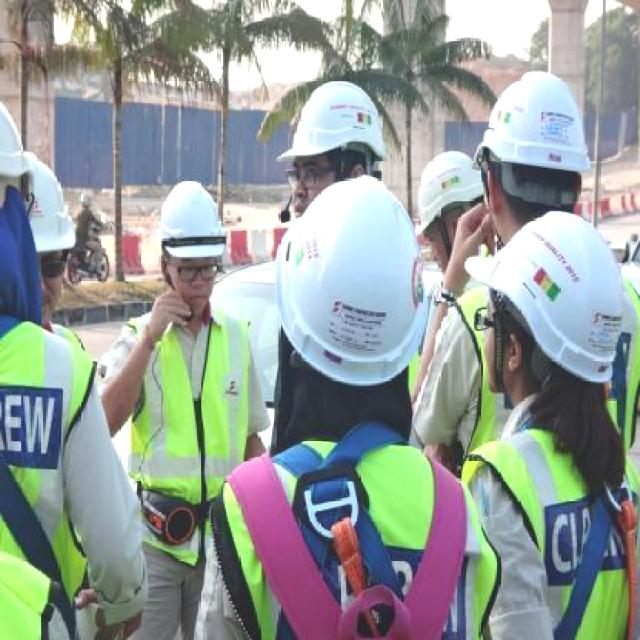glasses: (162, 257, 228, 288), (465, 294, 507, 338), (30, 246, 75, 283)
hand_noglove: (445, 198, 501, 276), (148, 284, 192, 333)
head_helmet: (274, 171, 434, 387), (462, 207, 630, 390), (457, 68, 605, 192), (268, 74, 394, 177), (146, 176, 237, 262)
person: (108, 166, 267, 640)
